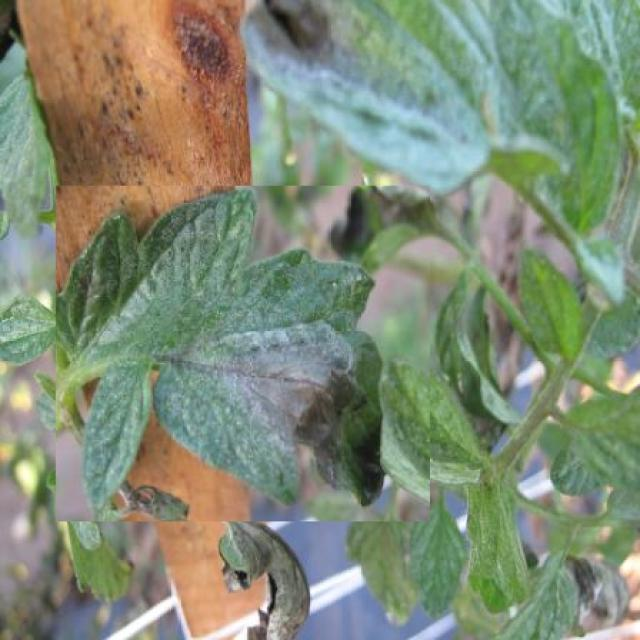Late Blight: (56, 186, 431, 521)
